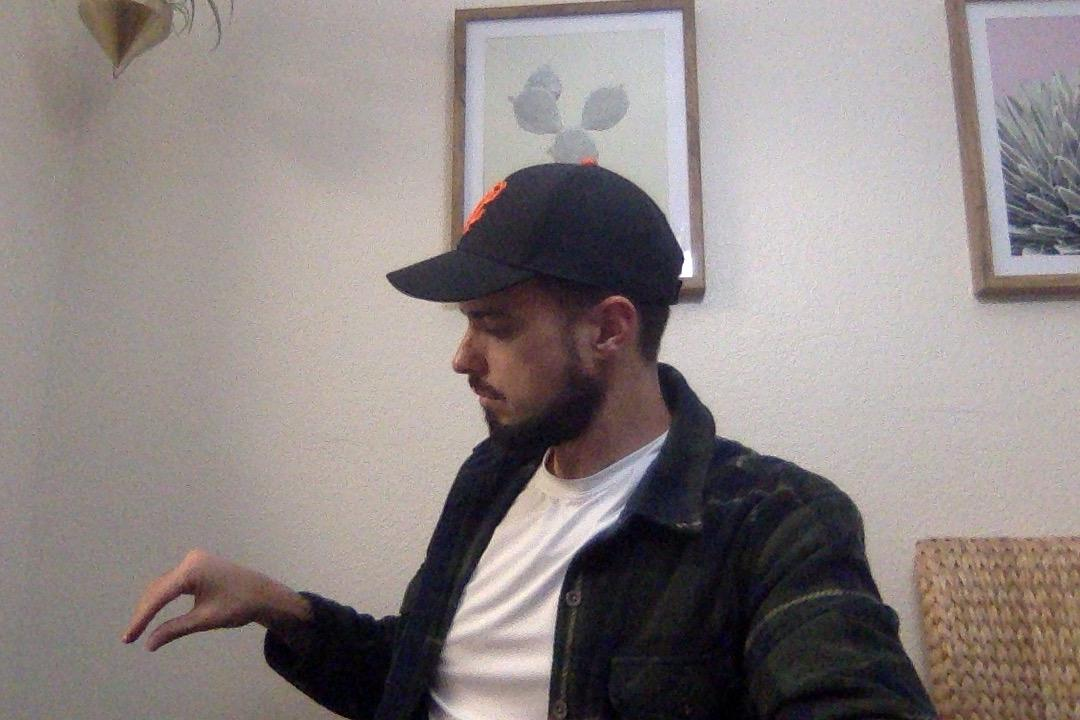Pinched-Fingers: (125, 547, 288, 660)
